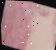plaque psoriasis: (0, 0, 56, 50), (43, 7, 56, 50)
